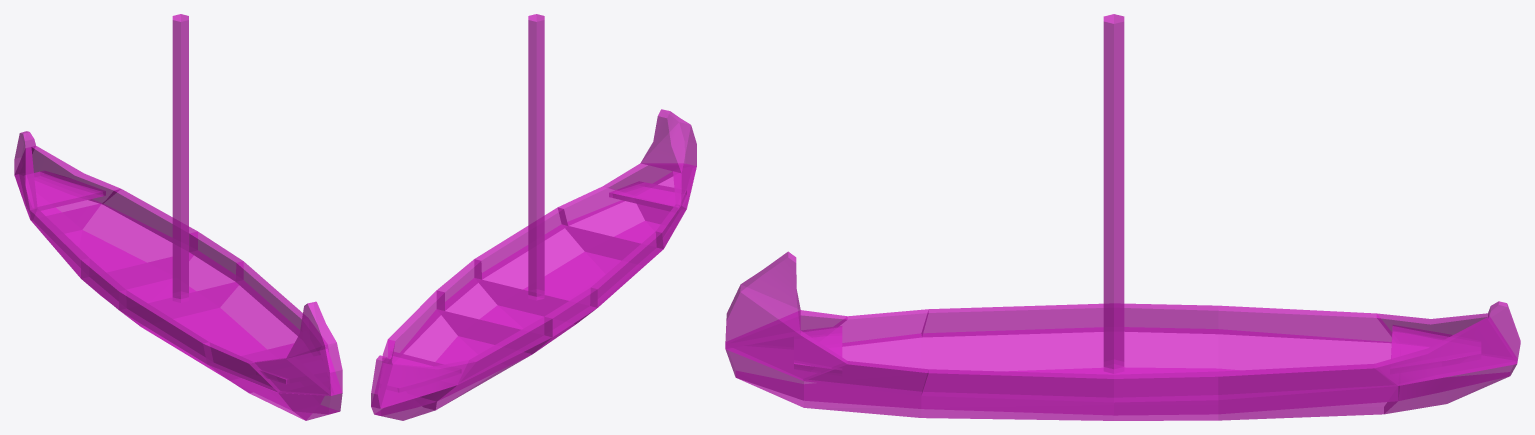
File: SM_Veh_Boat_Medium_01_Collision.fbx
3 renders of one model, left to right at view 1: azimuth 30°, elevation 25°; view 2: azimuth 150°, elevation 25°; view 3: azimuth 270°, elevation 25°, orthographic. The views are drawn at different scales.
Parts seen in each view (by area): view 1: SM_Veh_Boat_Medium_01_Collision; view 2: SM_Veh_Boat_Medium_01_Collision; view 3: SM_Veh_Boat_Medium_01_Collision.
Boxes of the visible parts, x1,y1,x2,y2 form: SM_Veh_Boat_Medium_01_Collision: [14, 14, 342, 420]; SM_Veh_Boat_Medium_01_Collision: [371, 14, 696, 420]; SM_Veh_Boat_Medium_01_Collision: [725, 14, 1520, 420].
Bounding box in the file's own units: 447 × 1086 × 1985.
